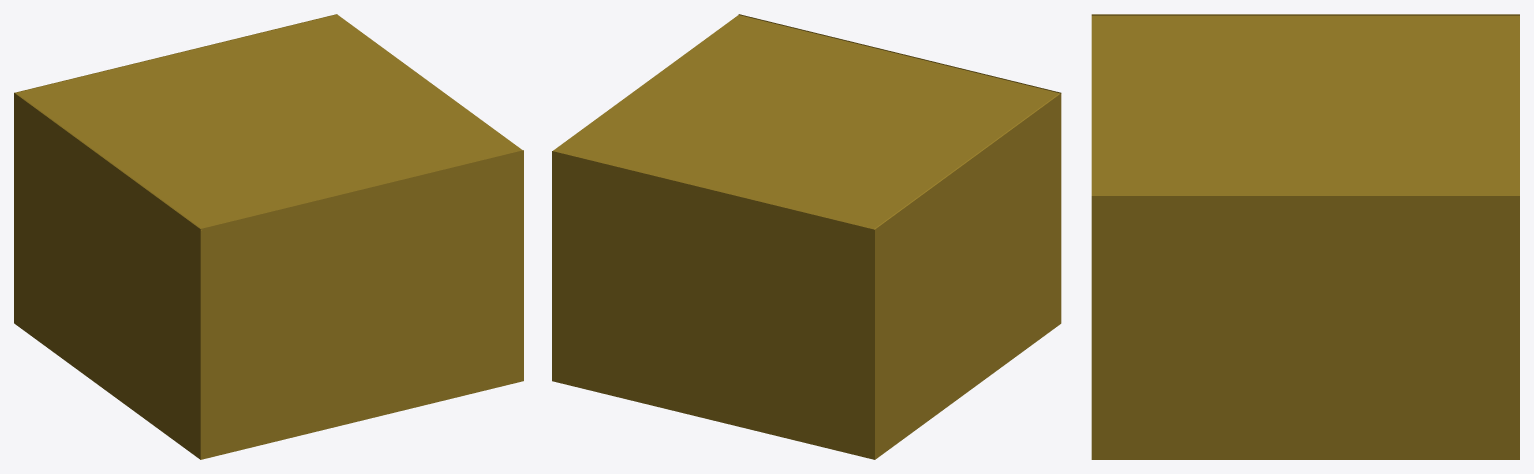
Rendered from scenario.glb.
The picture shows the model from 3 angles, left to right: view 1: azimuth 30°, elevation 25°; view 2: azimuth 150°, elevation 25°; view 3: azimuth 270°, elevation 25°; orthographic projection. The views are drawn at different scales.
Parts seen in each view (by area): view 1: Plane; view 2: Plane; view 3: Plane.
Boxes of the visible parts, box(x1,y1,x2,y2) form: Plane: box(14, 14, 523, 459); Plane: box(552, 14, 1061, 459); Plane: box(1091, 14, 1519, 459).
Size of the model in its own units: 6.65 by 4.54 by 6.67.
